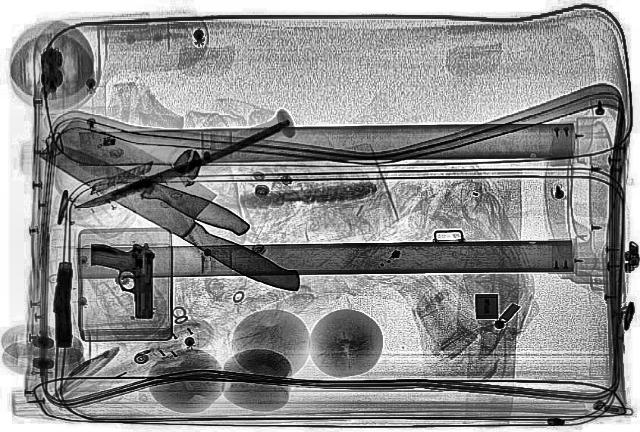Gun: (89, 243, 155, 319), (48, 261, 76, 347)
Knife: (20, 112, 342, 298), (31, 128, 257, 241), (66, 119, 298, 213)
